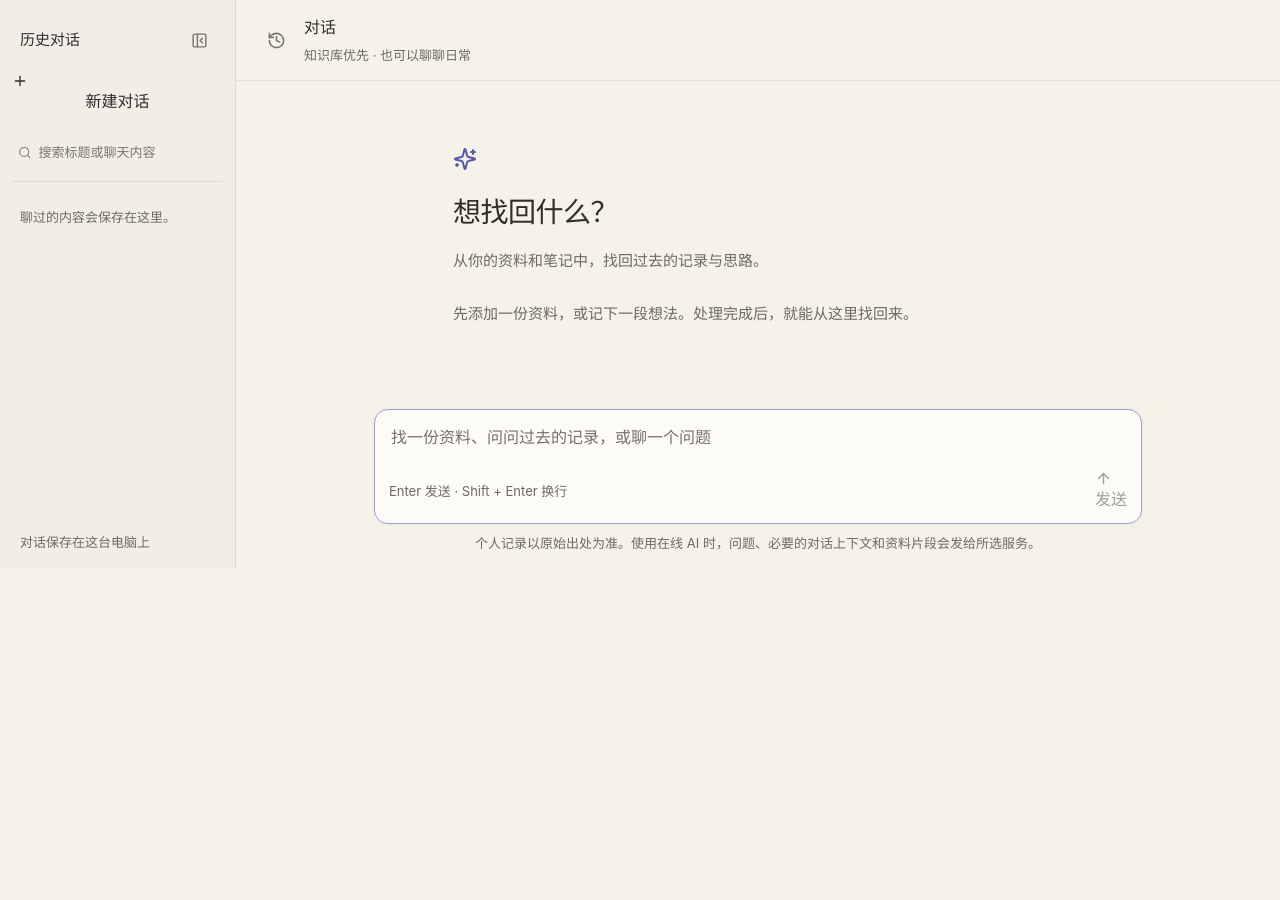
Test case: summarizes a file with one click without overwriting another draft
The image size is (1280, 900).
Type "简历" into the text box named "消息" at (758, 446), box [389,422,1127,470]
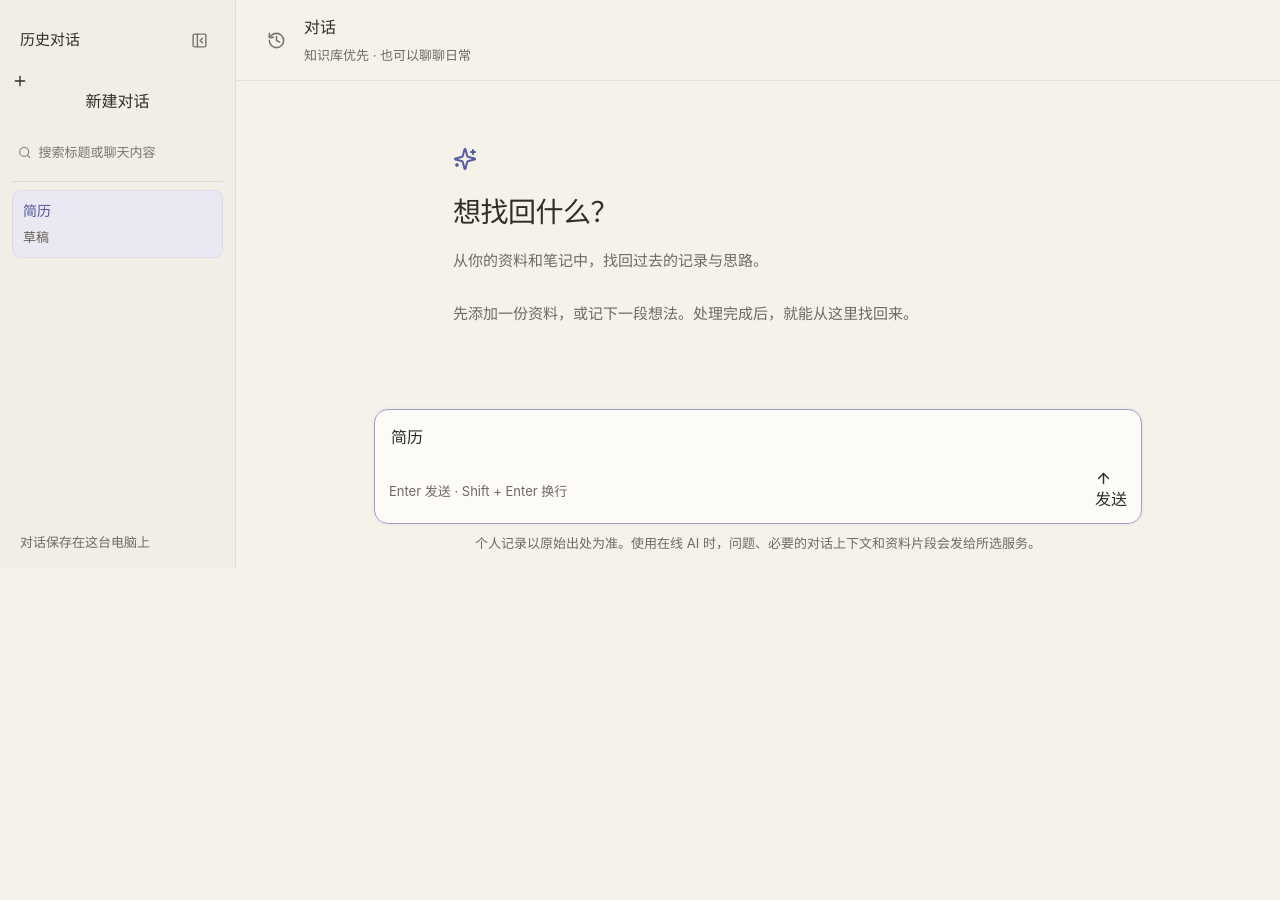
Press Enter in the text box named "消息", box [389,422,1127,470]
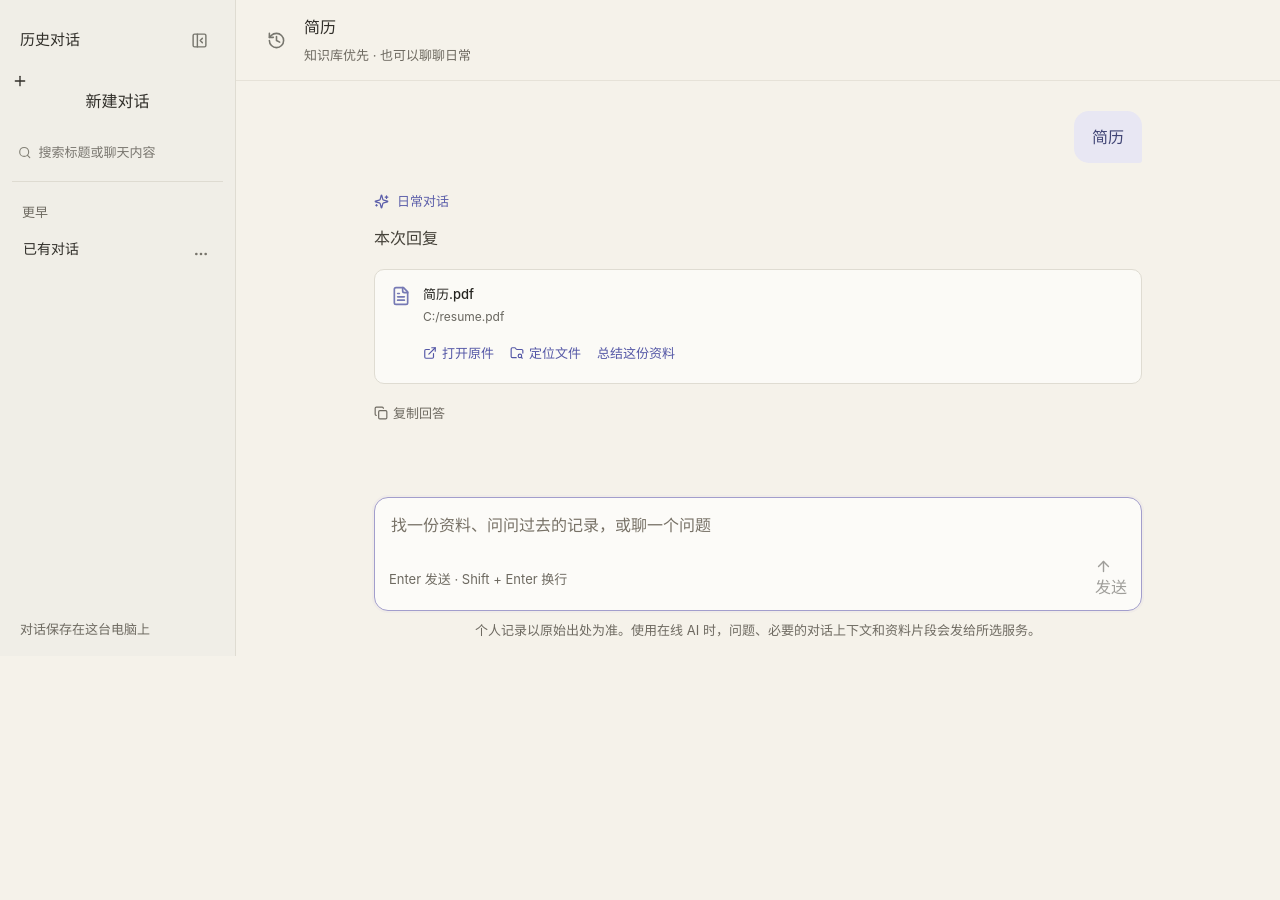
Now the button "总结这份资料" is shown, box [597,337,675,369]
Type "我另外想问的内容" into the text box named "消息" at (758, 534), box [389,510,1127,558]
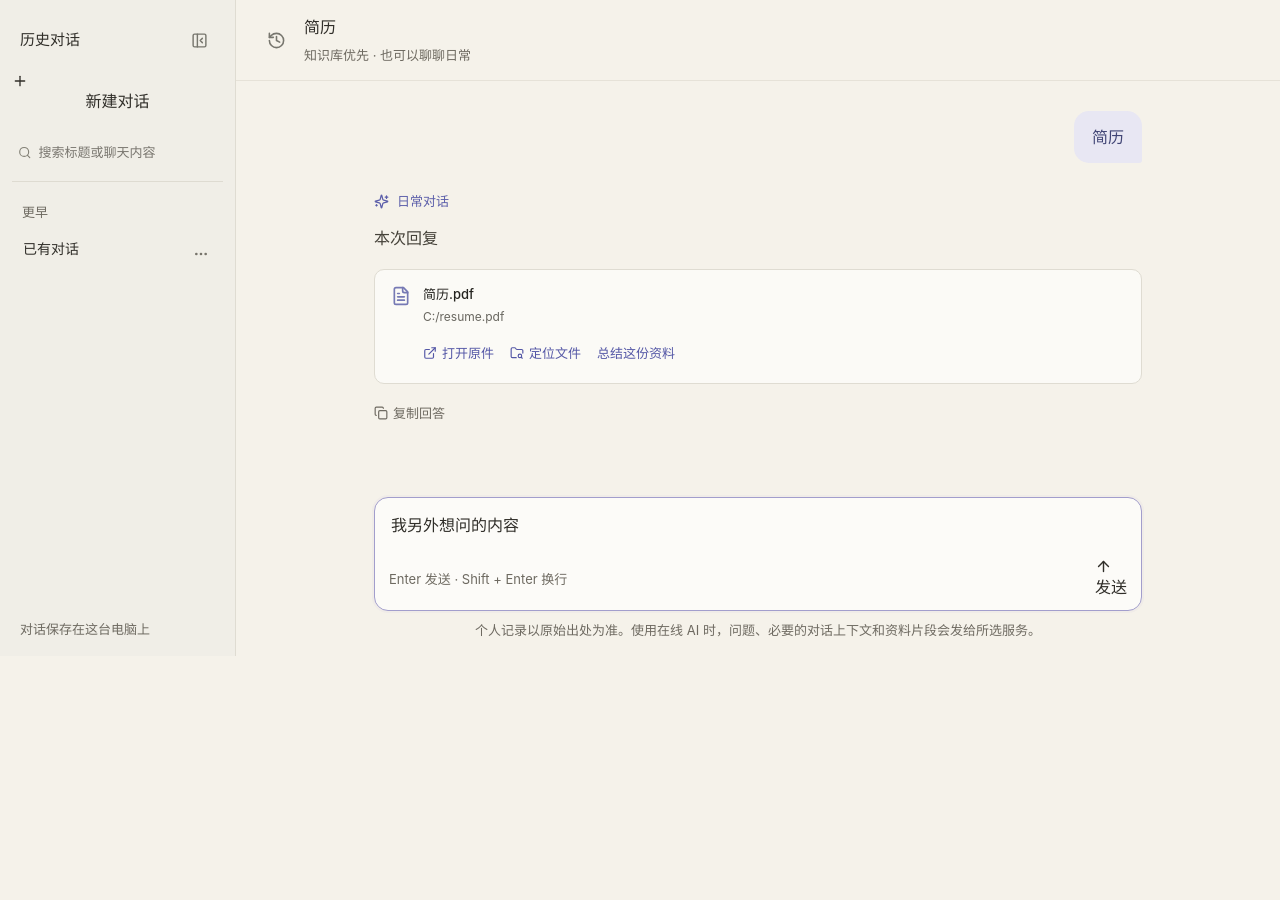
Click the button "总结这份资料" at (636, 353), box [597,337,675,369]
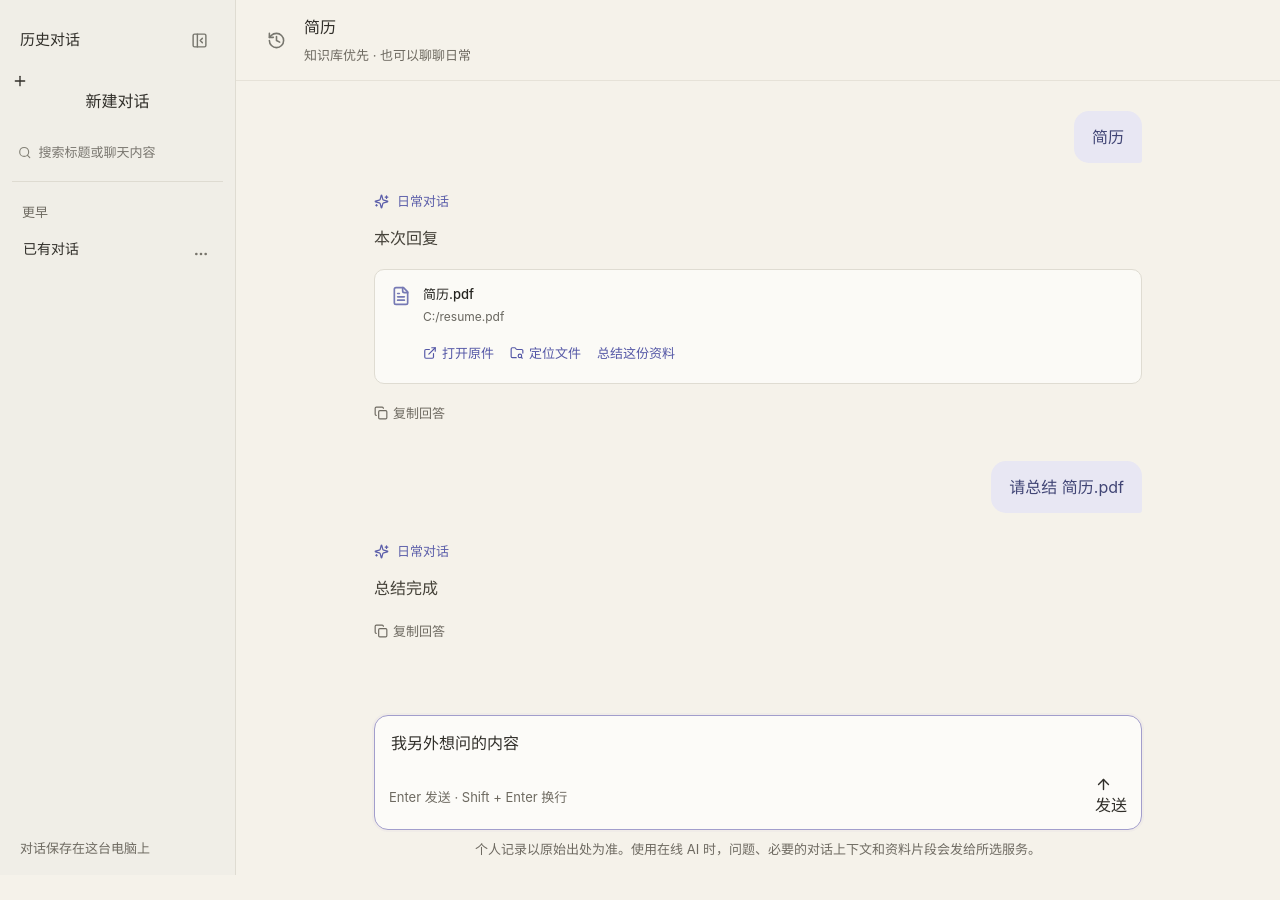
Now the text "总结完成" is shown, box [374,578,438,598]
Now the text "请总结 简历.pdf" is shown, box [991,461,1142,513]
